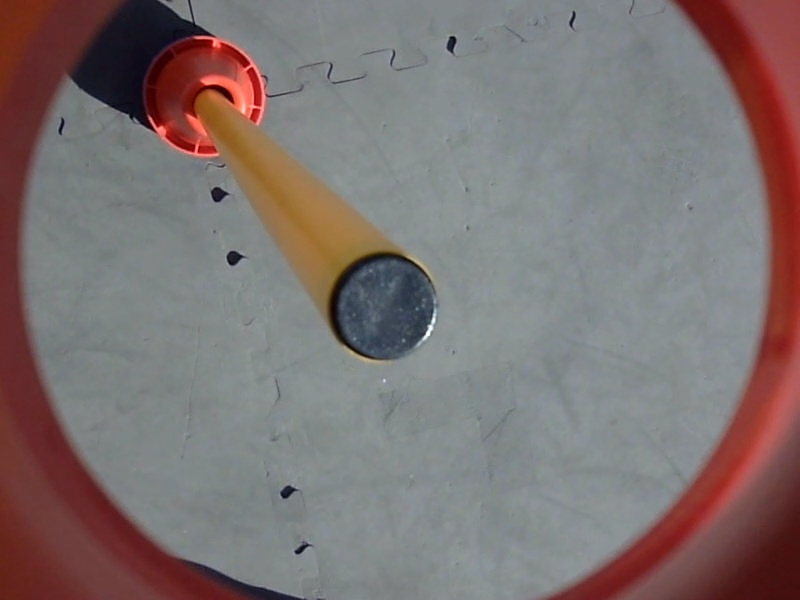tip: (324, 242, 448, 367)
